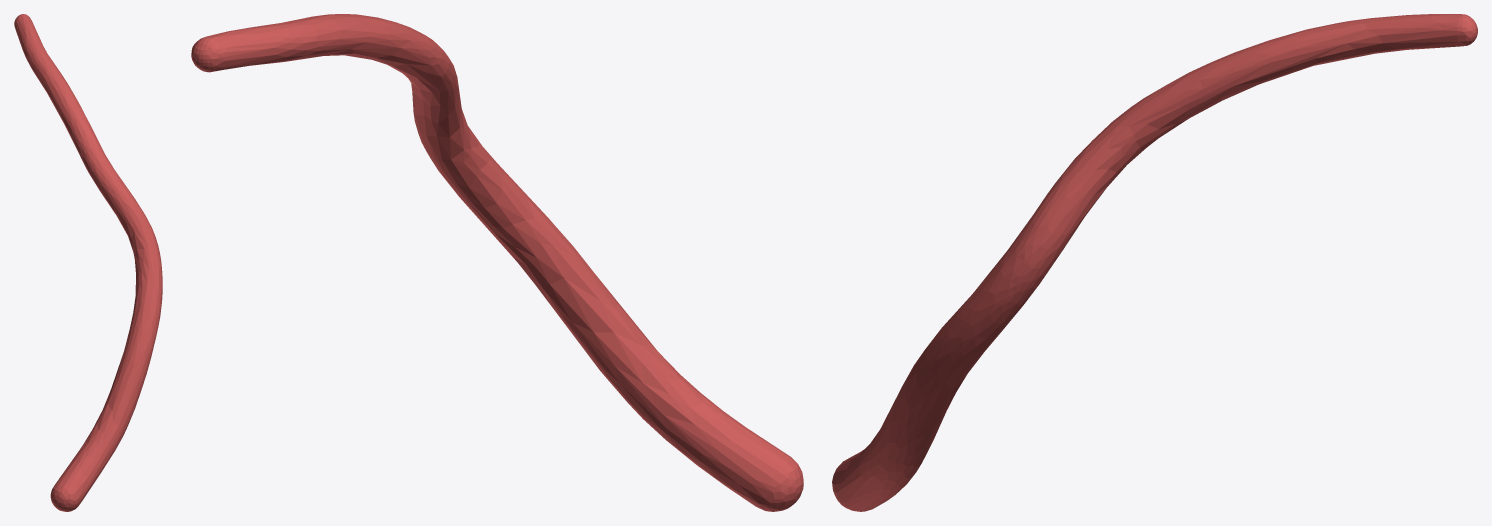
3 renders of one model, left to right at view 1: azimuth 30°, elevation 25°; view 2: azimuth 150°, elevation 25°; view 3: azimuth 270°, elevation 25°, orthographic. The views are drawn at different scales.
Parts seen in each view (by area): view 1: FJ2649; view 2: FJ2649; view 3: FJ2649.
Part boxes in pixels (x1,y1,x2,y2): FJ2649: [14, 14, 162, 511]; FJ2649: [191, 14, 803, 511]; FJ2649: [832, 14, 1477, 511].
Size of the model in its own units: 16.16 by 34.98 by 33.93.
